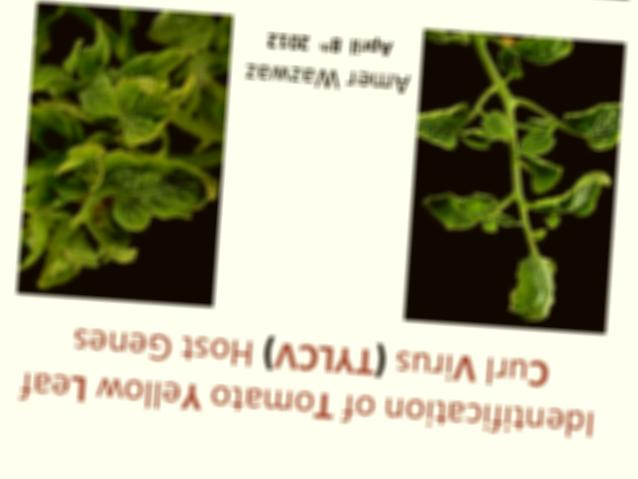Tomato leaf yellow virus: (82, 64, 202, 148), (94, 152, 214, 235), (507, 244, 562, 332), (415, 190, 507, 242), (534, 167, 613, 225)
